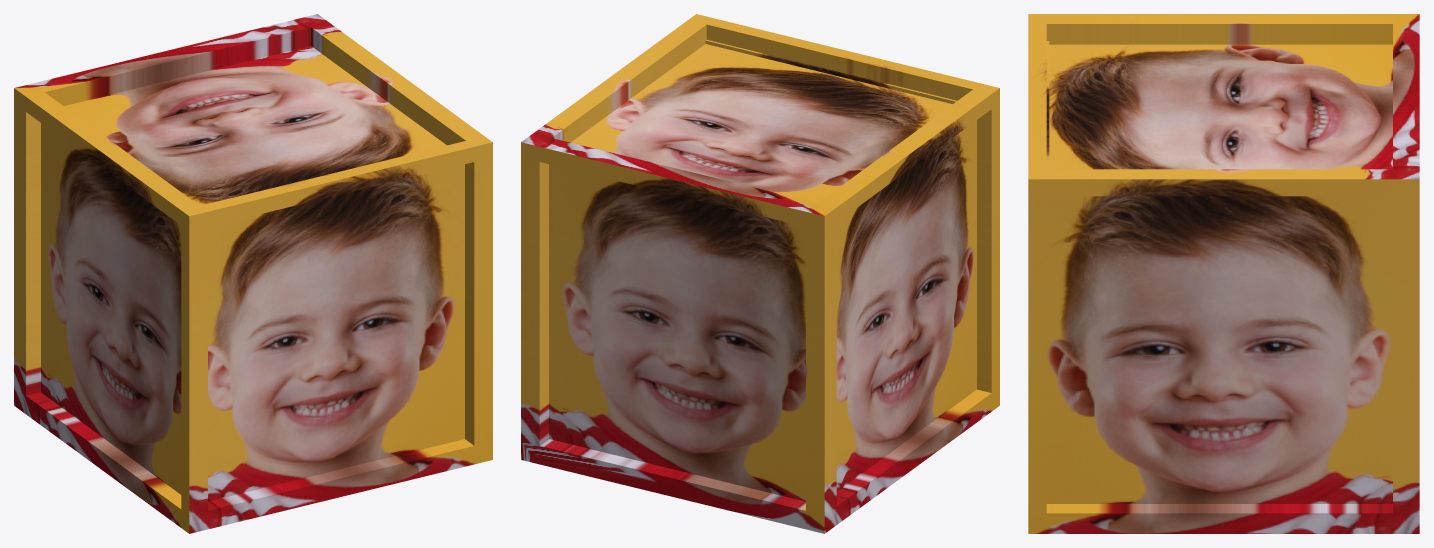
File: senang b.fbx
3 views of the same model, side by side, from view 1: azimuth 30°, elevation 25°; view 2: azimuth 150°, elevation 25°; view 3: azimuth 270°, elevation 25° (orthographic). The views are drawn at different scales.
Visible parts, largest first — view 1: Cube; view 2: Cube; view 3: Cube.
Part boxes in pixels (x1=…): Cube: x1=14, y1=14, x2=492, y2=533; Cube: x1=521, y1=14, x2=999, y2=533; Cube: x1=1028, y1=14, x2=1419, y2=533.
Bounding box in the file's own units: 200 × 200 × 200.
1 material, 1 textured.
